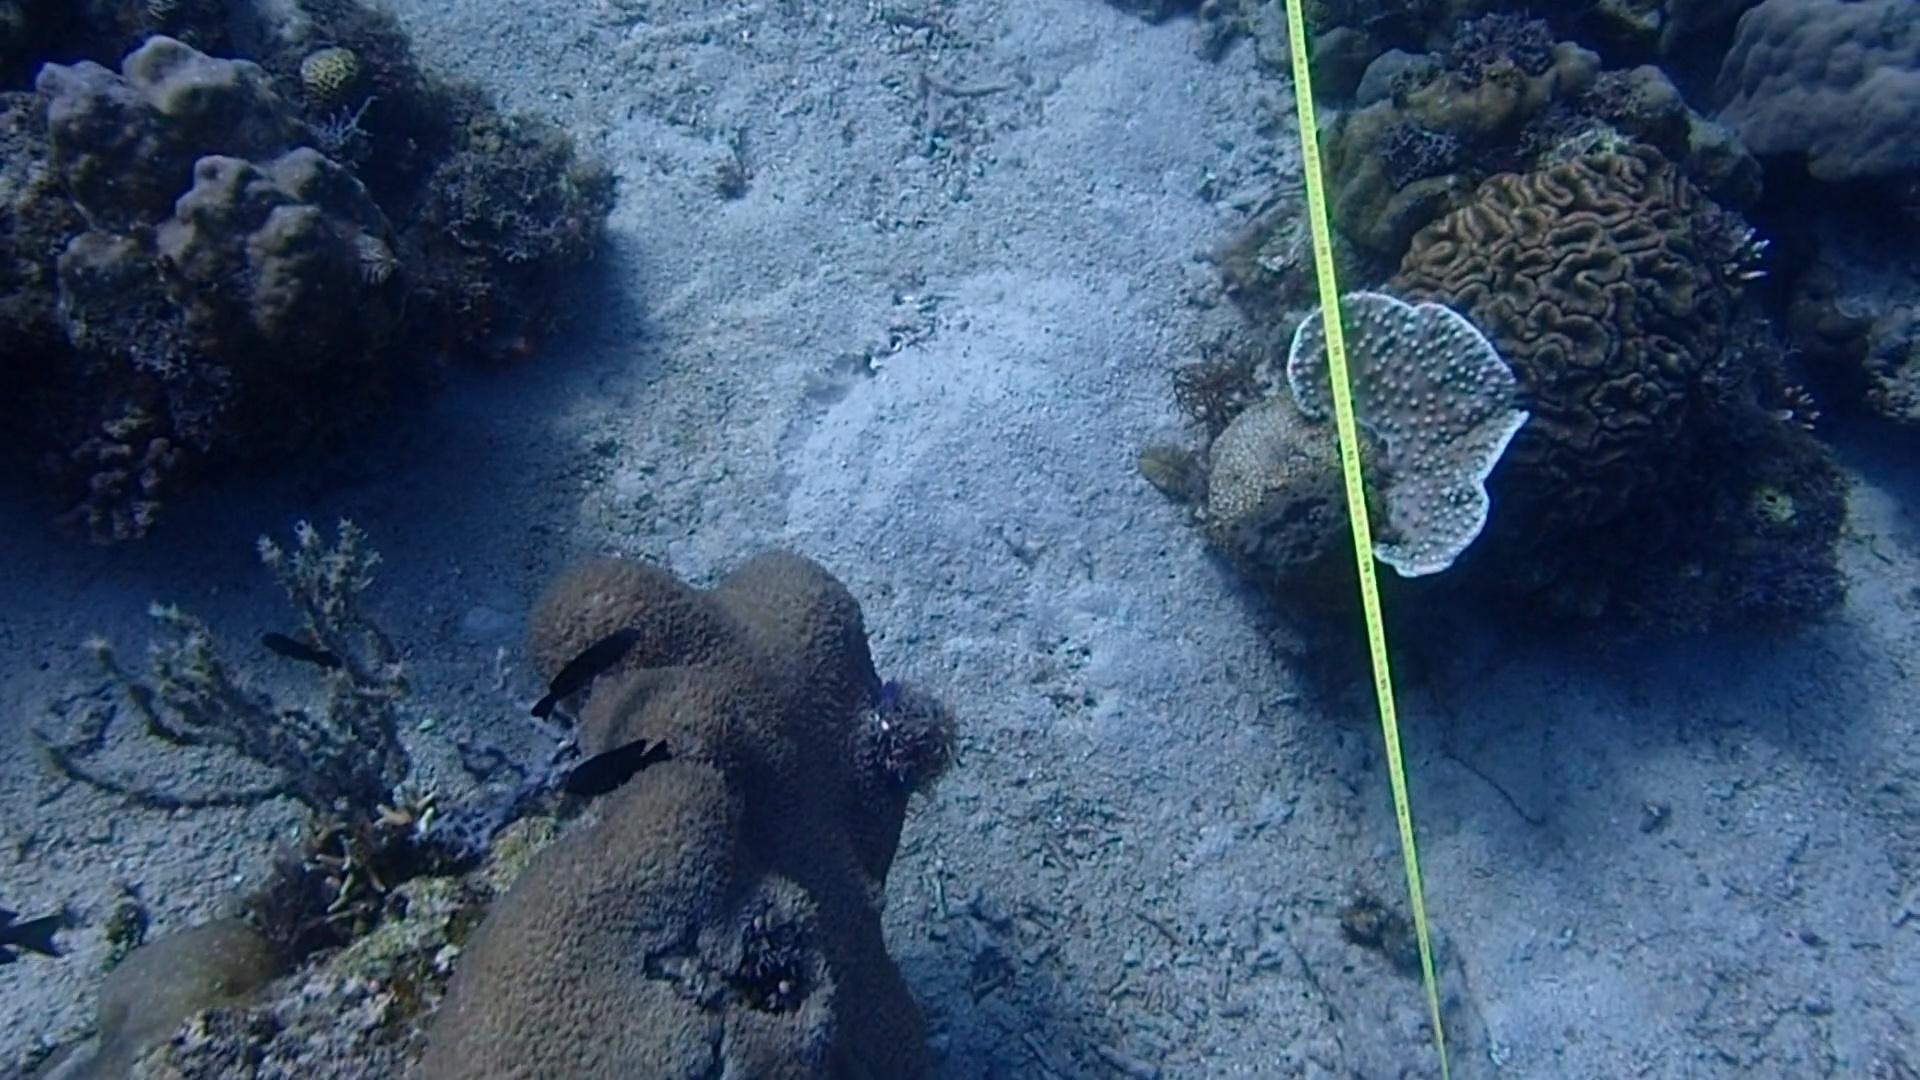Dark Fish: (512, 611, 638, 717), (550, 733, 682, 808), (245, 611, 355, 696)
